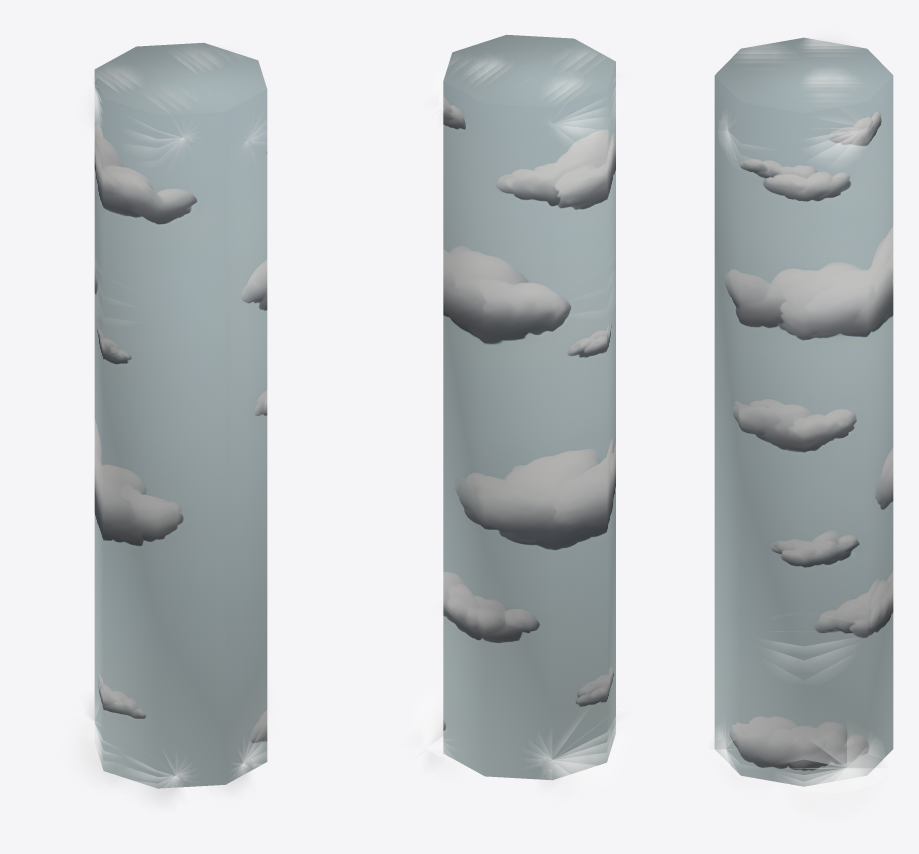
File: fallTubes.glb
The picture shows the model from 3 angles, left to right: view 1: azimuth 30°, elevation 25°; view 2: azimuth 150°, elevation 25°; view 3: azimuth 270°, elevation 25°; orthographic projection.
Parts seen in each view (by area): view 1: fallTubes, whiteCloud.001; view 2: fallTubes, whiteCloud.001; view 3: fallTubes, whiteCloud.001.
Boxes of the visible parts, left/top/right/bottom form: fallTubes: left=94, top=42, right=267, bottom=788; whiteCloud.001: left=66, top=48, right=277, bottom=806; fallTubes: left=443, top=34, right=615, bottom=780; whiteCloud.001: left=407, top=50, right=627, bottom=796; fallTubes: left=714, top=37, right=893, bottom=786; whiteCloud.001: left=710, top=31, right=886, bottom=821.
Size of what is drawn, in the model's own units: 24.24 by 72.89 by 18.08.
Materials: 2 (2 with a texture image).
